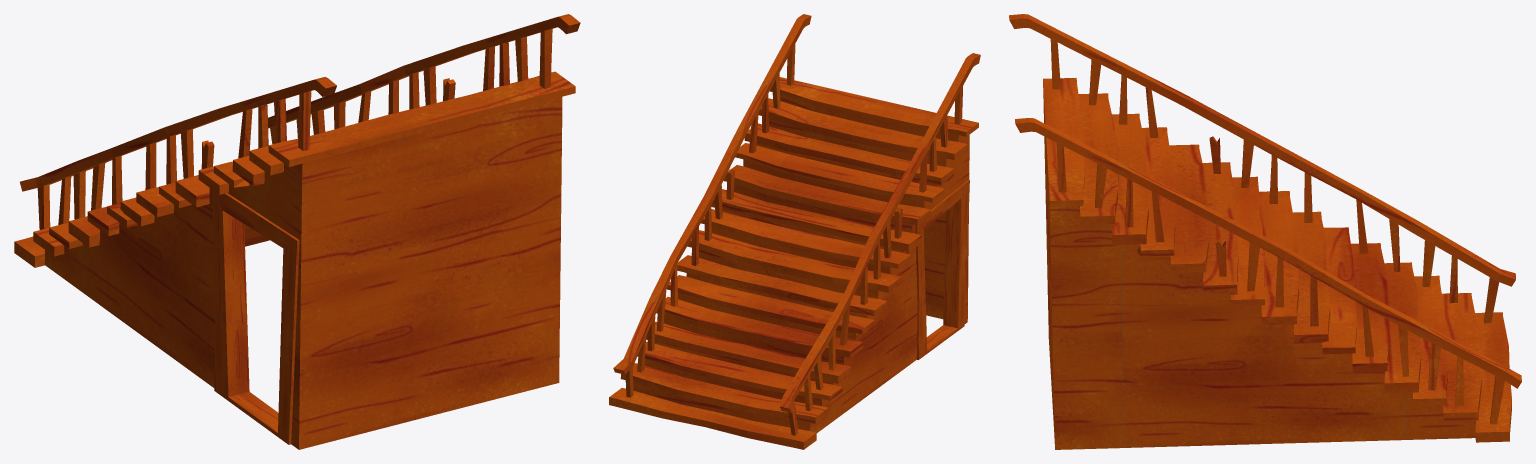
The model's file is stairs.fbx.
The picture shows the model from 3 angles, left to right: view 1: azimuth 30°, elevation 25°; view 2: azimuth 150°, elevation 25°; view 3: azimuth 270°, elevation 25°; orthographic projection. The views are drawn at different scales.
Parts seen in each view (by area): view 1: childhood_house_stairs_LOD008; view 2: childhood_house_stairs_LOD008; view 3: childhood_house_stairs_LOD008.
Boxes of the visible parts, x1=… form: childhood_house_stairs_LOD008: x1=14, y1=14, x2=580, y2=449; childhood_house_stairs_LOD008: x1=609, y1=14, x2=980, y2=449; childhood_house_stairs_LOD008: x1=1009, y1=14, x2=1521, y2=449.
Bounding box in the file's own units: 1440 × 1735 × 2471.
Materials: 1 (1 with a texture image).
